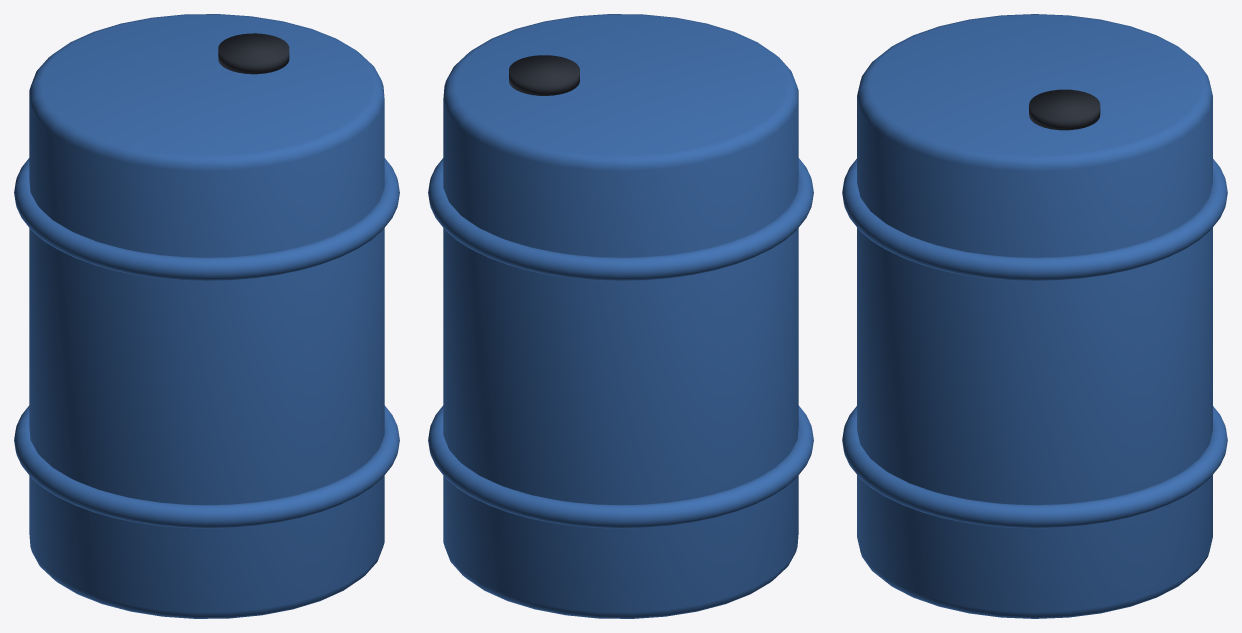
Rendered from barrel_blue.glb.
3 views of the same model, side by side, from view 1: azimuth 30°, elevation 25°; view 2: azimuth 150°, elevation 25°; view 3: azimuth 270°, elevation 25° (orthographic).
Visible parts, largest first — view 1: b.001, ring.003, ring.002, cap.002; view 2: b.001, ring.003, ring.002, cap.002; view 3: b.001, ring.002, ring.003, cap.002.
Part boxes in pixels (left/top/right/bottom): b.001: left=29, top=14, right=384, bottom=618; ring.003: left=14, top=158, right=399, bottom=280; ring.002: left=14, top=405, right=399, bottom=528; cap.002: left=218, top=33, right=289, bottom=74; b.001: left=443, top=14, right=798, bottom=618; ring.003: left=428, top=158, right=813, bottom=280; ring.002: left=428, top=405, right=813, bottom=528; cap.002: left=509, top=55, right=579, bottom=95; b.001: left=857, top=14, right=1212, bottom=618; ring.002: left=842, top=406, right=1227, bottom=528; ring.003: left=842, top=159, right=1227, bottom=280; cap.002: left=1029, top=89, right=1100, bottom=130.
Bounding box in the file's own units: 0.65 × 0.88 × 0.65.
